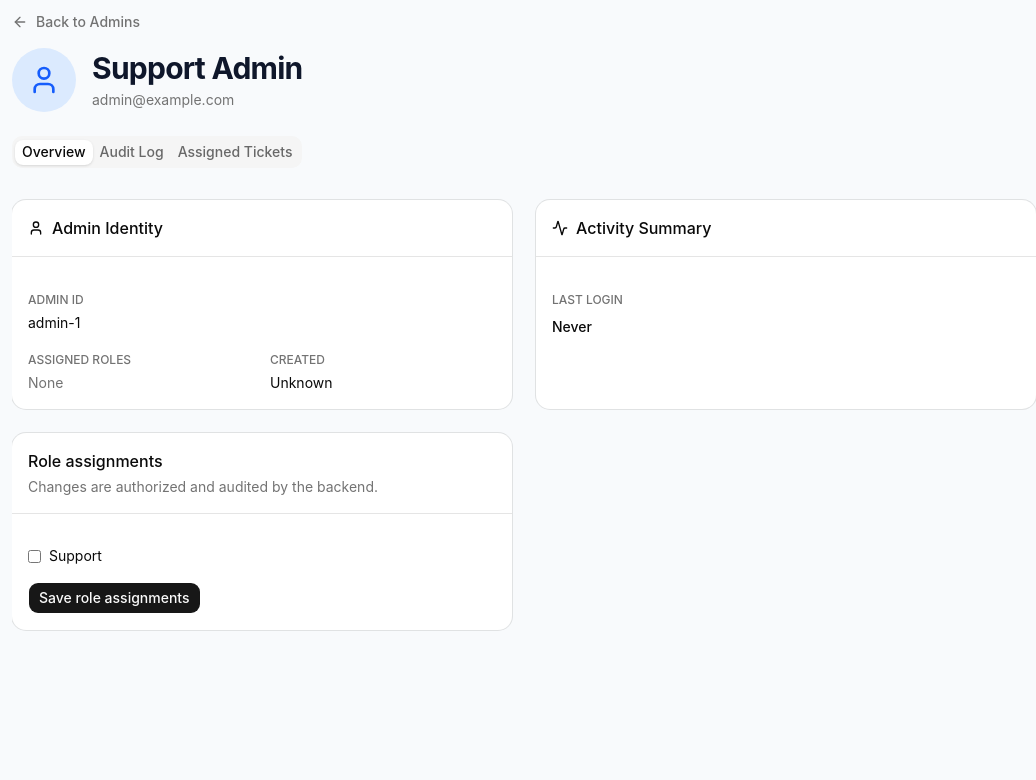
Admin detail support tickets › renders multiple assigned tickets
Click the tab "Assigned Tickets". click: (235, 152)
box: [171,140,300,164]
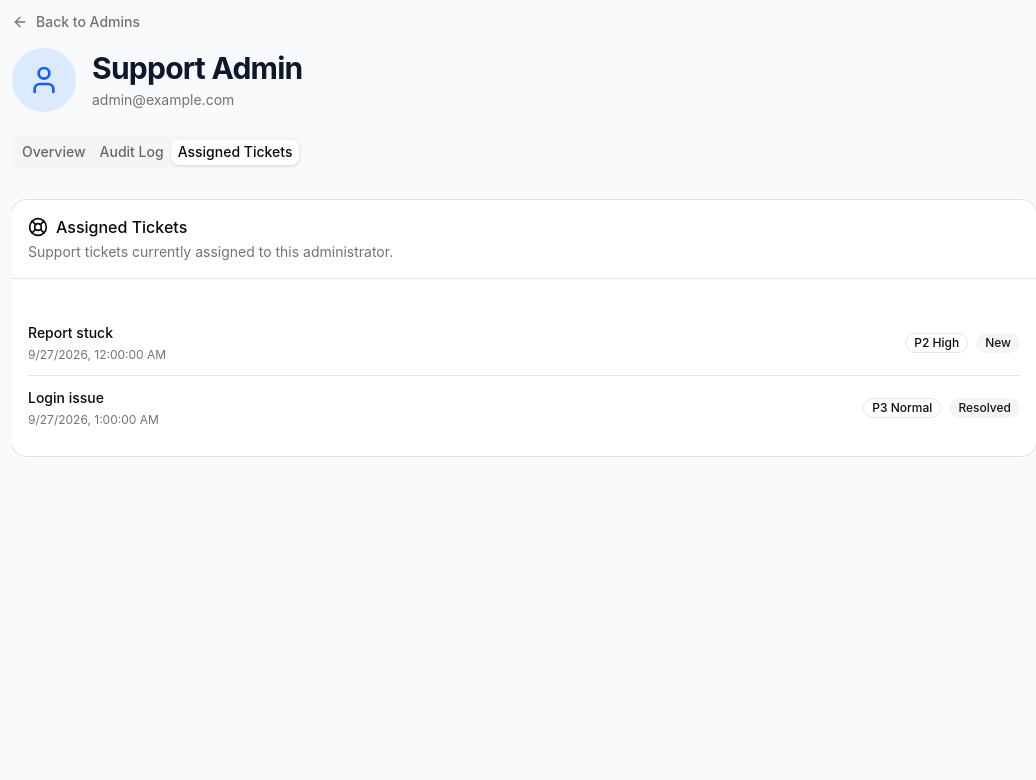
Expected: the text "Report stuck" is shown, [28,324,113,341]
Expected: the text "Login issue" is shown, [28,389,104,406]
